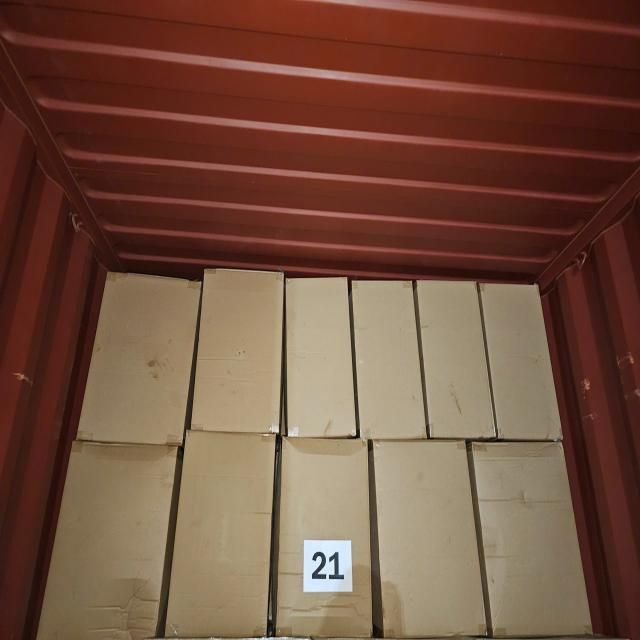Carton: (48, 439, 172, 640), (472, 438, 588, 640), (376, 437, 484, 639), (177, 426, 276, 640), (270, 438, 370, 639), (85, 274, 195, 450), (202, 274, 288, 440), (482, 284, 560, 442), (352, 280, 423, 440), (418, 284, 488, 446), (285, 276, 353, 438)
